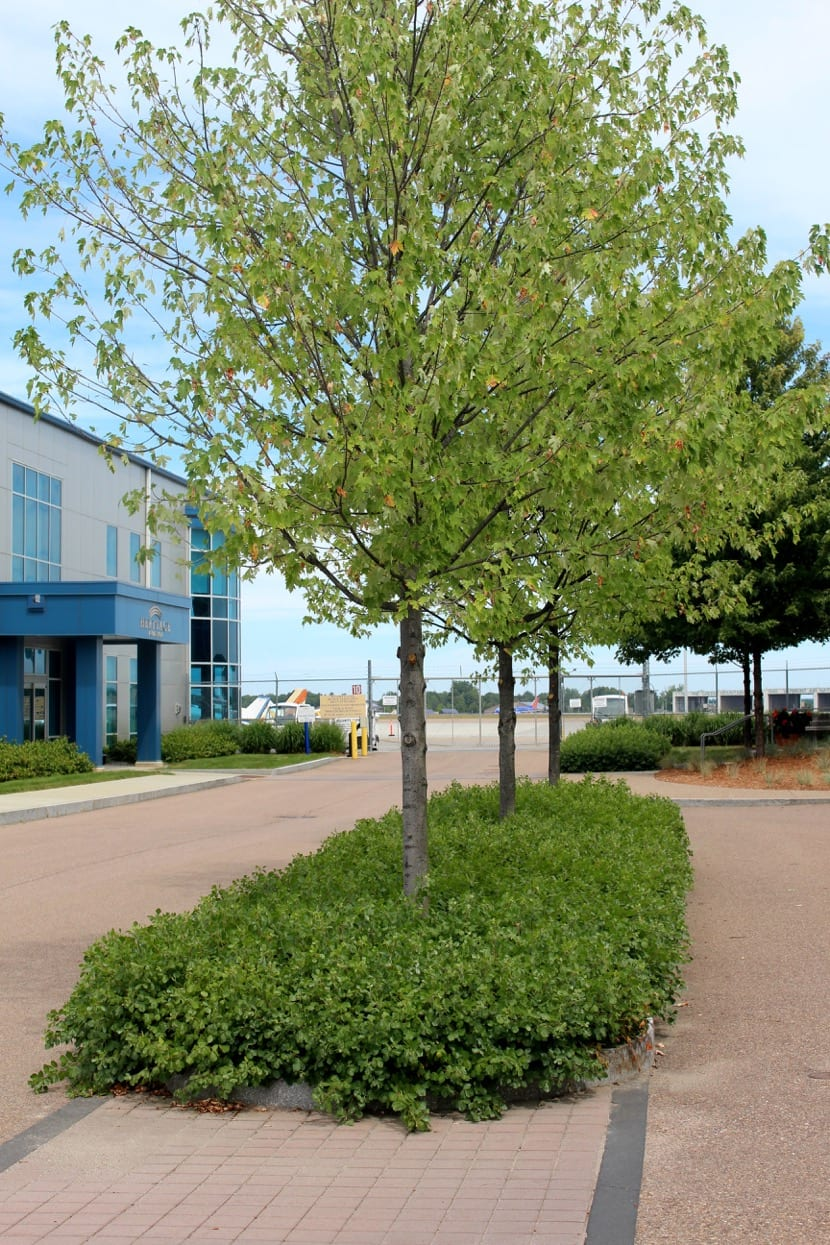tree: (1, 1, 828, 929)
